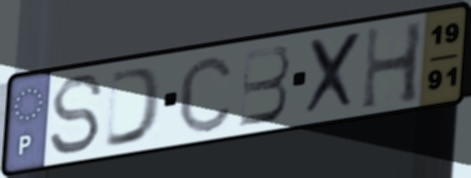B: (237, 42, 293, 130)
C: (175, 52, 236, 136)
D: (101, 63, 166, 152)
H: (358, 18, 427, 114)
S: (47, 72, 107, 158)
X: (302, 28, 366, 119)
